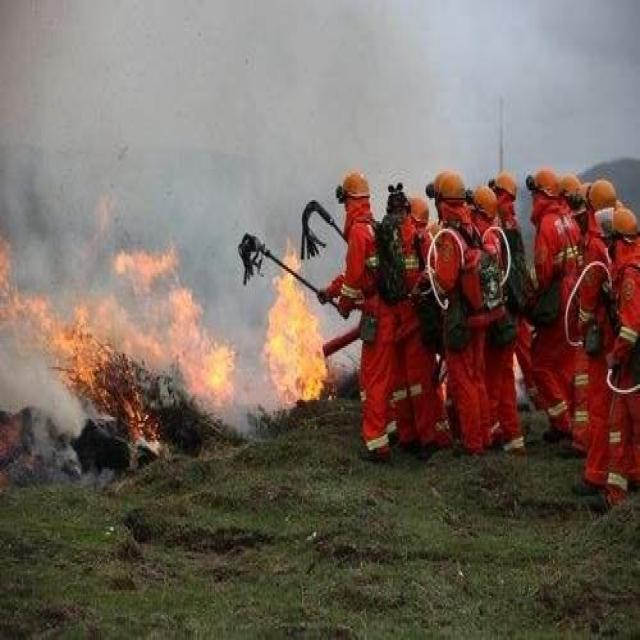Fire: (2, 204, 236, 446), (256, 244, 337, 411)
Smoke: (0, 0, 452, 194)
